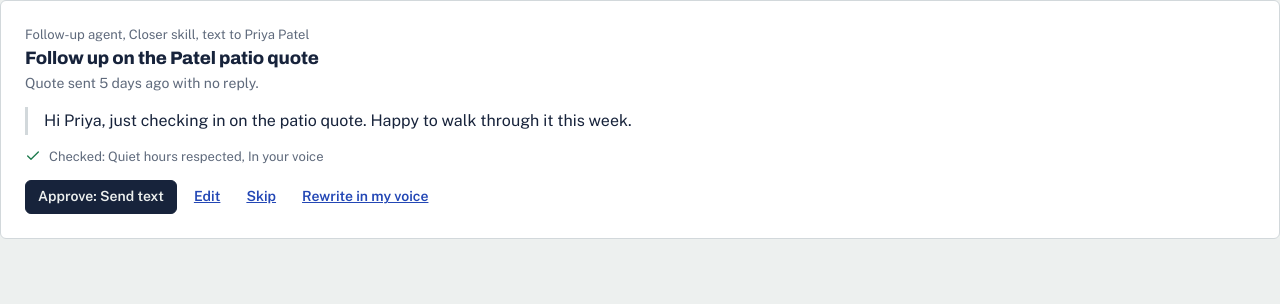
Test: AgentCard › says why a rewrite was refused, keeping the draft
Click the button "Rewrite in my voice" at (365,197), box [293,182,437,212]
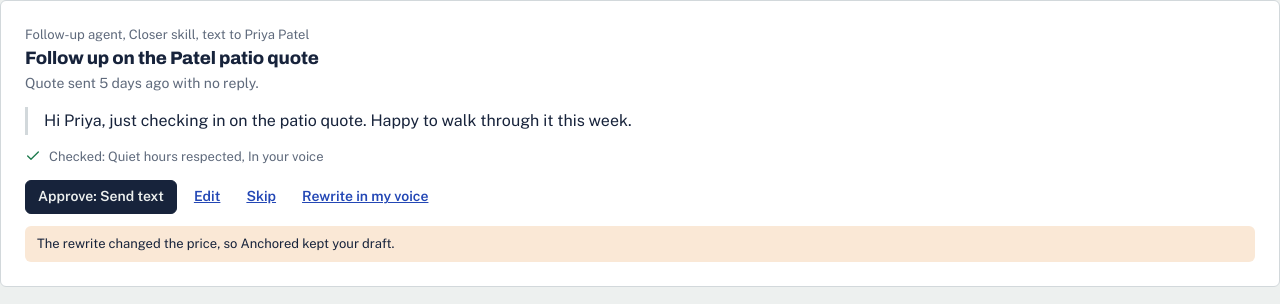
Expected: the text "Hi Priya, just checking in on the patio quote. Happy to walk through it this week." is shown, [44,111,632,130]
Now the text "The rewrite changed the price, so Anchored kept your draft." is shown, box [25,226,1255,262]
